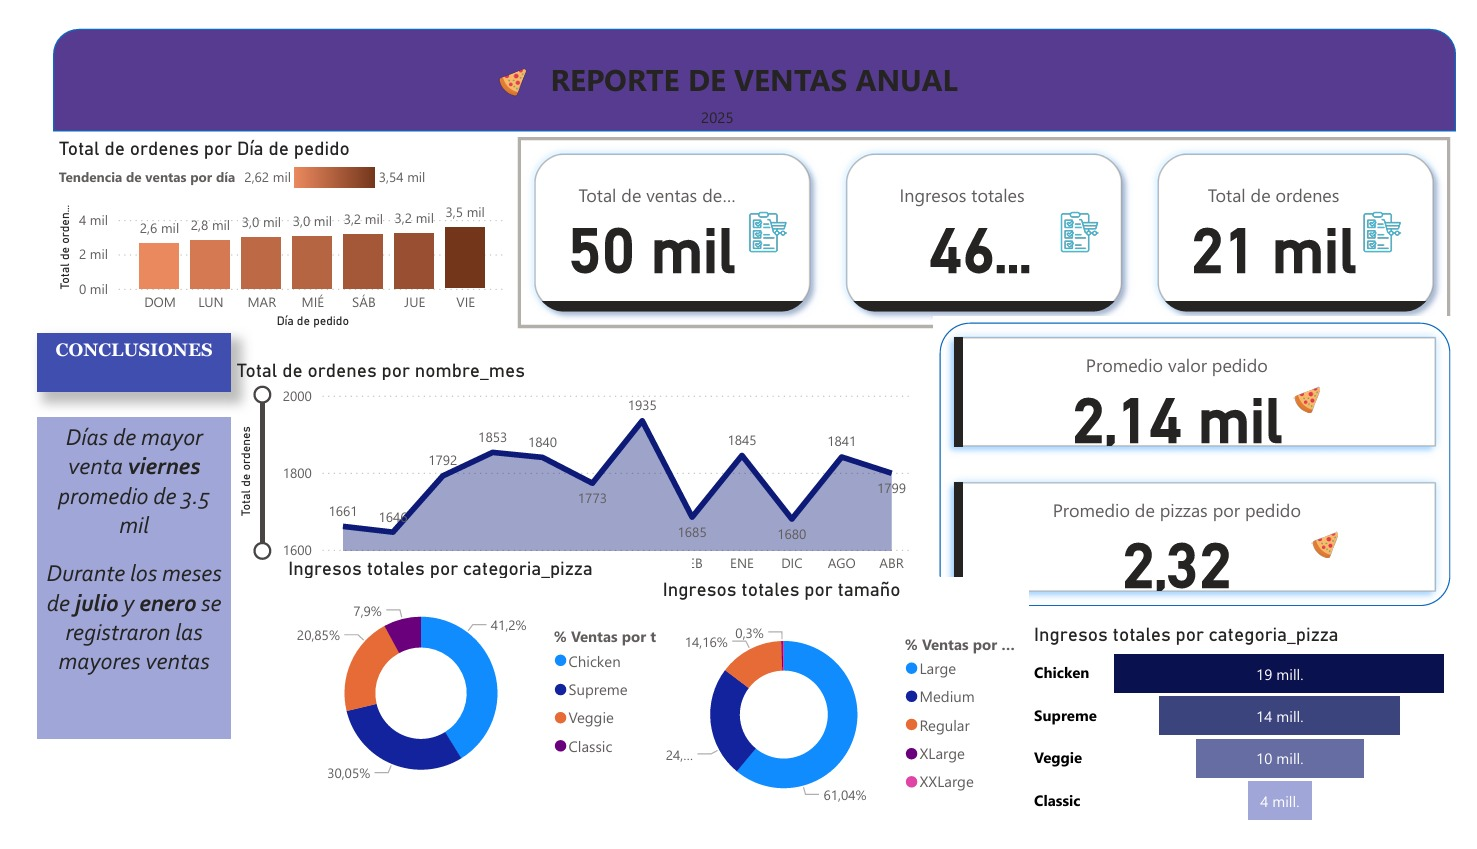

What the dashboard file says about the page in this screenshot:
{"tool":"powerbi","page":{"name":"Página 1","canvas":[1280,720],"ordinal":0},"visuals":[{"type":"cardVisual","fields":{"Data":["pizza_sales.Total pizzas sold","pizza_sales.Total revenue","pizza_sales.Total Orders"]},"box":[441.4,98.6,838.6,180],"z":0},{"type":"cardVisual","fields":{"Data":["pizza_sales.Avg Order Value","pizza_sales.Avg pizzas per order"]},"box":[815.7,264.3,464.3,261.4],"z":1000},{"type":"shape","box":[32.5,7.5,1247.5,91.2],"z":2000},{"type":"textbox","box":[441.2,28.8,430,51.2],"z":3000},{"type":"image","box":[296.2,37.5,290,35],"z":4000},{"type":"textbox","box":[603.8,72.5,676.2,31.2],"z":5000},{"type":"columnChart","fields":{"Category":["pizza_sales.Order_day"],"Y":["pizza_sales.Total Orders"]},"box":[32.9,104.3,408.6,174.3],"z":6000},{"type":"areaChart","fields":{"Y":["pizza_sales.Total Orders"],"Category":["pizza_sales.Orden_mes"]},"box":[191.4,301.4,610,210],"z":7000},{"type":"donutChart","fields":{"Category":["pizza_sales.pizza_category"],"Y":["pizza_sales.Total revenue"]},"box":[237.1,477.1,364.3,224.3],"z":8000},{"type":"funnel","fields":{"Y":["pizza_sales.Total revenue"],"Category":["pizza_sales.pizza_category"]},"box":[900,535.7,380,184.3],"z":9000},{"type":"donutChart","fields":{"Y":["pizza_sales.Total revenue"],"Category":["pizza_sales.pizza_size"]},"box":[570,495.7,330,224.3],"z":10000},{"type":"textbox","box":[18.6,278.6,172.9,52.9],"z":11000},{"type":"textbox","box":[18.6,352.9,172.9,285.7],"z":12000}]}

Visuals, with their boxes in screenshot pixels (x1, y1, x2, y2), scaled from the page's 1280x720 canvas onto the 1477x849 screenshot:
cardVisual - pizza_sales.Total pizzas sold x pizza_sales.Total revenue: 509,116,1476,329
cardVisual - pizza_sales.Avg Order Value x pizza_sales.Avg pizzas per order: 941,312,1476,620
shape: 38,9,1476,116
textbox: 509,34,1005,94
image: 342,44,676,85
textbox: 697,85,1476,122
columnChart - pizza_sales.Order_day x pizza_sales.Total Orders: 38,123,509,329
areaChart - pizza_sales.Total Orders x pizza_sales.Orden_mes: 221,355,925,603
donutChart - pizza_sales.pizza_category x pizza_sales.Total revenue: 274,563,694,827
funnel - pizza_sales.Total revenue x pizza_sales.pizza_category: 1039,632,1476,848
donutChart - pizza_sales.Total revenue x pizza_sales.pizza_size: 658,585,1039,848
textbox: 21,329,221,391
textbox: 21,416,221,753
